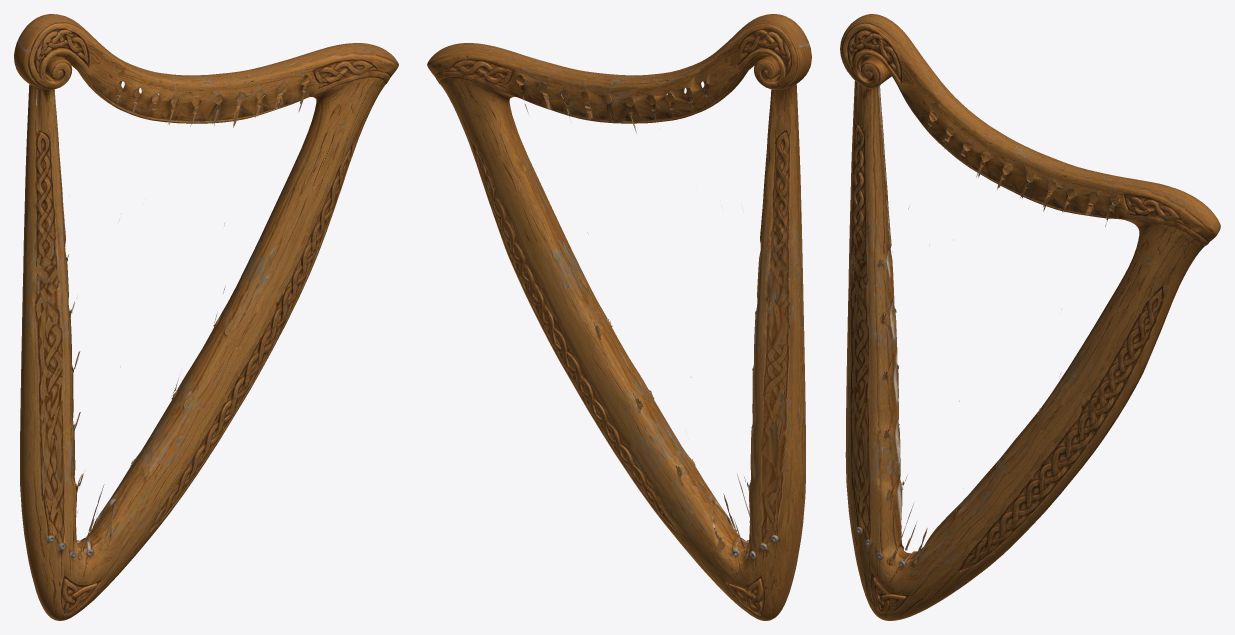
Rendered from harp.glb.
3 views of the same model, side by side, from view 1: azimuth 30°, elevation 25°; view 2: azimuth 150°, elevation 25°; view 3: azimuth 330°, elevation 25° (orthographic).
Parts seen in each view (by area): view 1: Mesh_0; view 2: Mesh_0; view 3: Mesh_0.
Part boxes in pixels (x1=…): Mesh_0: x1=14, y1=14, x2=398, y2=620; Mesh_0: x1=427, y1=14, x2=811, y2=620; Mesh_0: x1=840, y1=14, x2=1220, y2=620.
Bounding box in the file's own units: 1.3 × 2 × 0.1254.
1 material, 1 textured.
